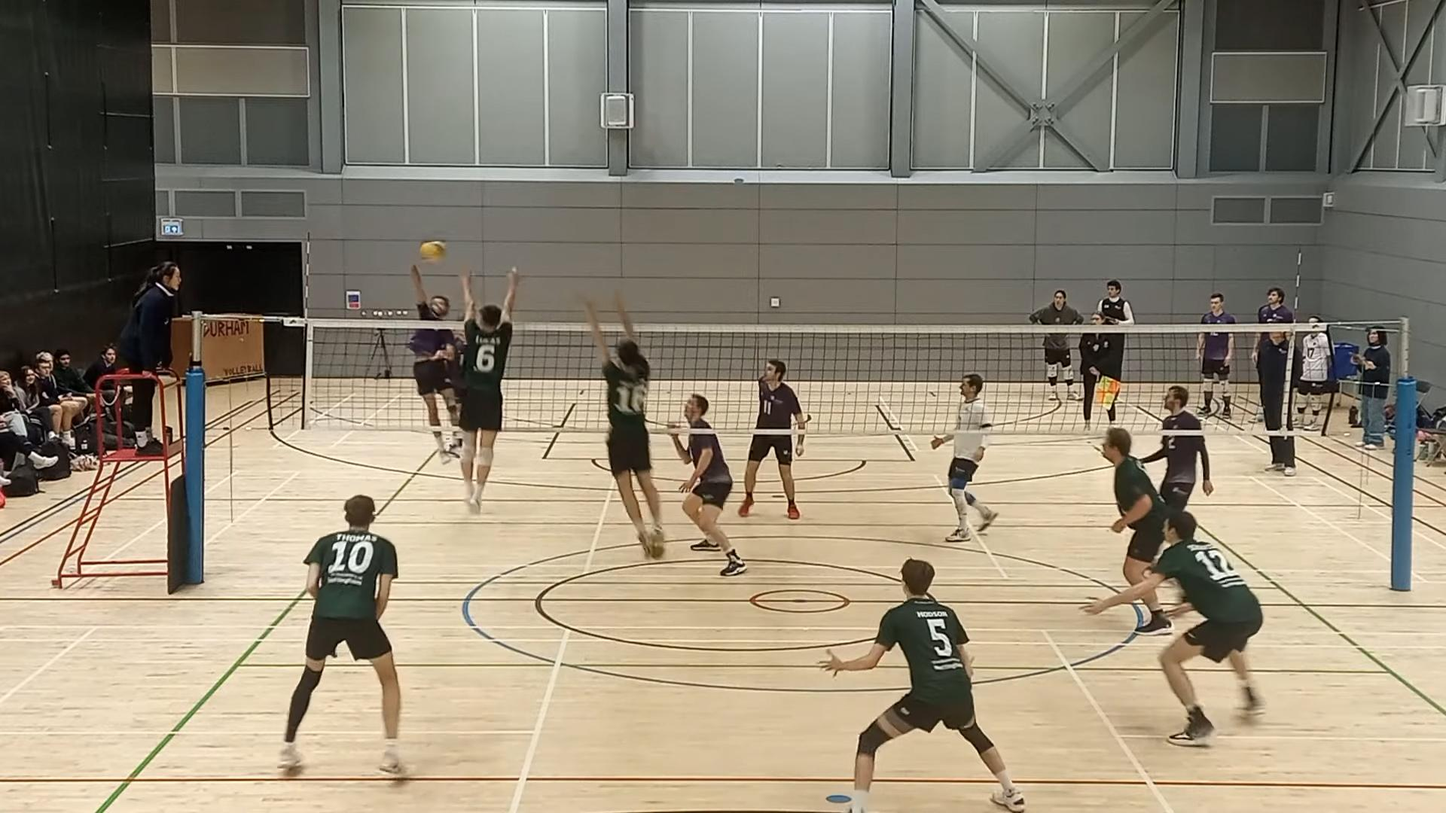Attack: (409, 236, 468, 468)
Block: (585, 282, 668, 551), (456, 262, 520, 517)
Player: (820, 559, 1025, 812), (1083, 512, 1262, 746), (279, 495, 402, 775), (672, 394, 746, 576), (738, 359, 808, 519), (931, 374, 997, 541), (1102, 428, 1168, 584), (1140, 434, 1213, 510)
ball: (419, 236, 447, 264)
